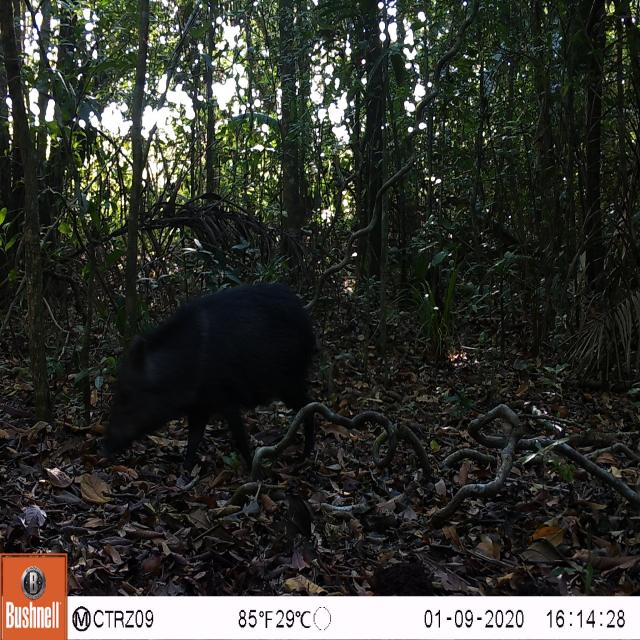Collared Peccary: (71, 260, 359, 502)
